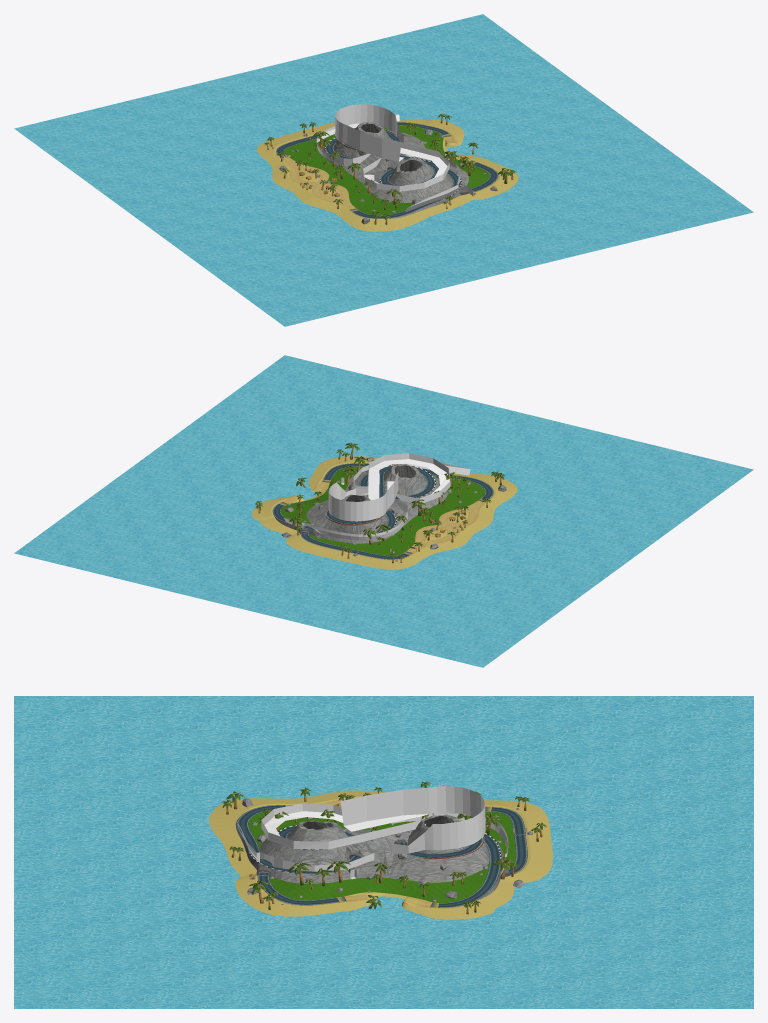
Rendered from track.glb.
3 renders of one model, top to bottom at view 1: azimuth 30°, elevation 25°; view 2: azimuth 150°, elevation 25°; view 3: azimuth 270°, elevation 25°, orthographic. The views are drawn at different scales.
Parts seen in each view (by area): view 1: mesh_25, mesh_24, mesh_38, mesh_21, mesh_7, mesh_13, mesh_14, mesh_16; view 2: mesh_25, mesh_24, mesh_38, mesh_7, mesh_21, mesh_13, mesh_14, mesh_16, mesh_22; view 3: mesh_25, mesh_38, mesh_24, mesh_21, mesh_7, mesh_14, mesh_13, mesh_22.
Part boxes in pixels (bbox=[...]): mesh_25: bbox=[14, 14, 753, 326]; mesh_24: bbox=[257, 119, 518, 231]; mesh_38: bbox=[316, 104, 460, 212]; mesh_21: bbox=[323, 122, 468, 218]; mesh_7: bbox=[284, 125, 489, 215]; mesh_13: bbox=[264, 114, 515, 224]; mesh_14: bbox=[276, 122, 498, 218]; mesh_16: bbox=[282, 136, 472, 201]; mesh_25: bbox=[14, 355, 753, 667]; mesh_24: bbox=[252, 456, 517, 569]; mesh_38: bbox=[284, 453, 470, 540]; mesh_7: bbox=[281, 466, 485, 555]; mesh_21: bbox=[273, 464, 490, 543]; mesh_13: bbox=[255, 442, 505, 563]; mesh_14: bbox=[272, 463, 493, 559]; mesh_16: bbox=[282, 481, 477, 552]; mesh_22: bbox=[281, 457, 506, 561]; mesh_25: bbox=[14, 696, 753, 1008]; mesh_38: bbox=[235, 786, 508, 880]; mesh_24: bbox=[208, 790, 552, 919]; mesh_21: bbox=[235, 813, 504, 901]; mesh_7: bbox=[248, 810, 515, 902]; mesh_14: bbox=[237, 805, 527, 907]; mesh_13: bbox=[221, 781, 546, 914]; mesh_22: bbox=[242, 798, 532, 904].
Bounding box in the file's own units: 750 × 70.1 × 750.
38 materials, 38 textured.
